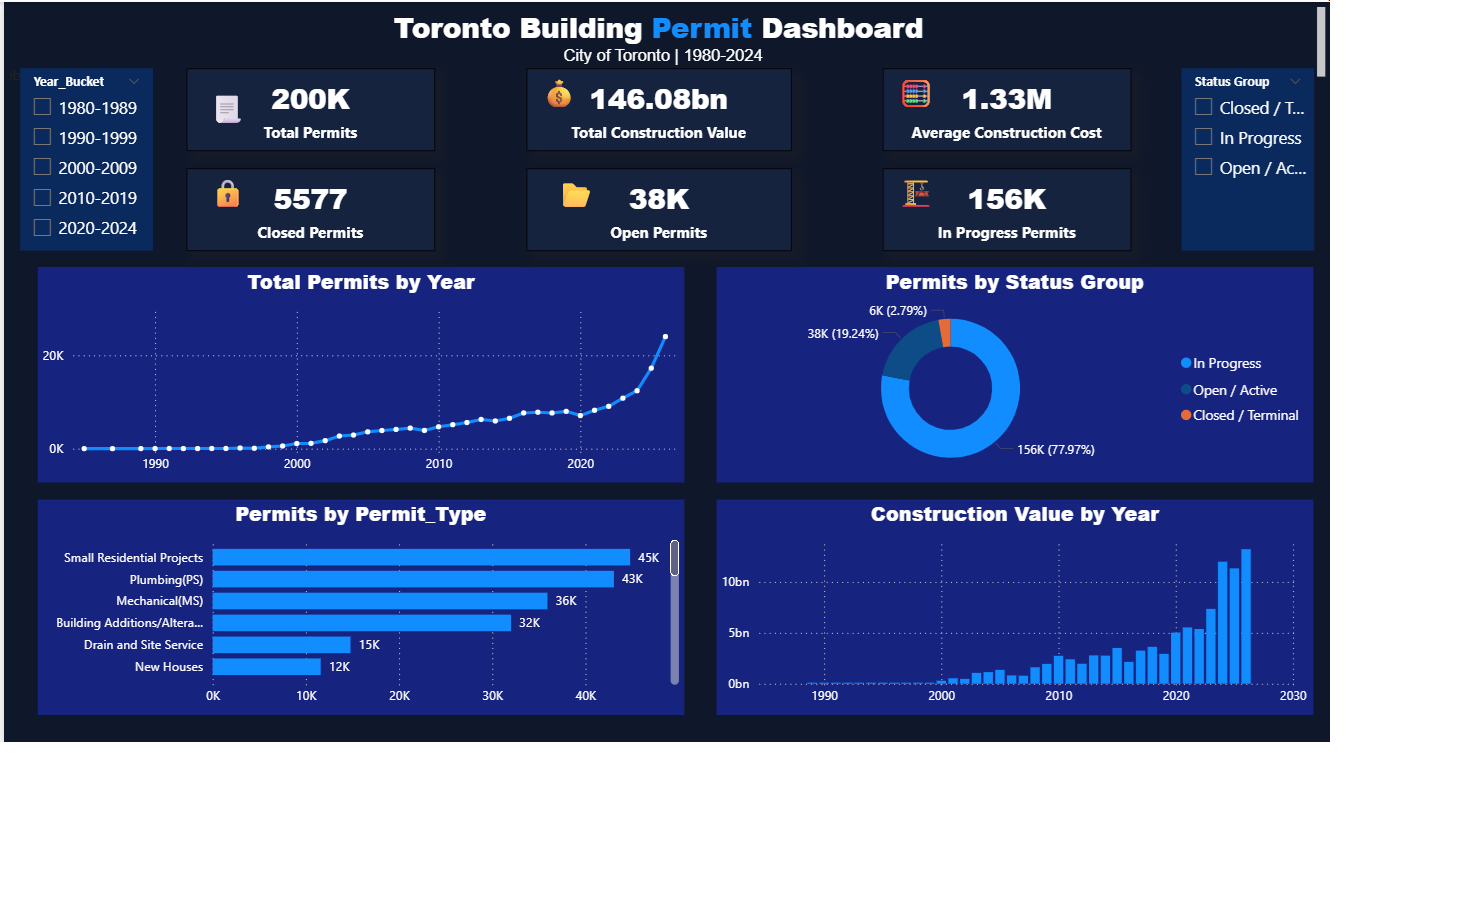

What the dashboard file says about the page in this screenshot:
{"tool":"powerbi","page":{"name":"Page 1","canvas":[1280,720],"ordinal":0},"visuals":[{"type":"card","fields":{"Values":["_.Total Permits"]},"box":[176,64,240,80],"z":0},{"type":"card","fields":{"Values":["_.Closed Permits"]},"box":[176,160,240,80],"z":1000},{"type":"card","fields":{"Values":["_.Average Construction Cost"]},"box":[848,64,240,80],"z":2000},{"type":"card","fields":{"Values":["_.Total Construction Value"]},"box":[504,64,256,80],"z":3000},{"type":"textbox","box":[0,0,1280,80],"z":4000},{"type":"lineChart","fields":{"Category":["building-permits-active-permits.ISSUED_DATE.Variation.Date Hierarchy.Year"],"Y":["_.Total Permits"]},"box":[32,256,624,208],"z":5000},{"type":"card","fields":{"Values":["_.In Progress Permits"]},"box":[848,160,240,80],"z":6000},{"type":"card","fields":{"Values":["_.Open Permits"]},"box":[504,160,256,80],"z":7000},{"type":"donutChart","title":"Permits by Status Group","fields":{"Y":["_.Total Permits"],"Category":["building-permits-active-permits.Status Group"]},"box":[688,256,576,208],"z":8000},{"type":"barChart","title":"Permits by Permit_Type","fields":{"Y":["_.Total Permits"],"Category":["building-permits-active-permits.PERMIT_TYPE"]},"box":[32,480,624,208],"z":9000},{"type":"columnChart","title":"Construction Value by Year","fields":{"Y":["_.Total Construction Value"],"Category":["building-permits-active-permits.ISSUED_DATE.Variation.Date Hierarchy.Year"]},"box":[688,480,576,208],"z":10000},{"type":"slicer","fields":{"Values":["building-permits-active-permits.Year_Bucket"]},"box":[16,64,128,176],"z":11000},{"type":"slicer","fields":{"Values":["building-permits-active-permits.Status Group"]},"box":[1136,64,128,176],"z":12000},{"type":"textbox","box":[192,80,48,48],"z":13000},{"type":"textbox","box":[512,64,48,48],"z":14000},{"type":"textbox","box":[848,64,64,48],"z":15000},{"type":"textbox","box":[192,160,48,64],"z":16000},{"type":"textbox","box":[512,160,80,48],"z":17000},{"type":"textbox","box":[848,160,64,48],"z":18000}]}

Visuals, with their boxes on the page's 1280x720 design canvas (x1, y1, x2, y2). These are canvas units, not pixel positions in the 1481x914 screenshot, which may show the page scaled, cropped or inside an application window:
card - _.Total Permits: bbox=[176, 64, 416, 144]
card - _.Closed Permits: bbox=[176, 160, 416, 240]
card - _.Average Construction Cost: bbox=[848, 64, 1088, 144]
card - _.Total Construction Value: bbox=[504, 64, 760, 144]
textbox: bbox=[0, 0, 1280, 80]
lineChart - building-permits-active-permits.ISSUED_DATE.Variation.Date Hierarchy.Year x _.Total Permits: bbox=[32, 256, 656, 464]
card - _.In Progress Permits: bbox=[848, 160, 1088, 240]
card - _.Open Permits: bbox=[504, 160, 760, 240]
"Permits by Status Group" donutChart: bbox=[688, 256, 1264, 464]
"Permits by Permit_Type" barChart: bbox=[32, 480, 656, 688]
"Construction Value by Year" columnChart: bbox=[688, 480, 1264, 688]
slicer - building-permits-active-permits.Year_Bucket: bbox=[16, 64, 144, 240]
slicer - building-permits-active-permits.Status Group: bbox=[1136, 64, 1264, 240]
textbox: bbox=[192, 80, 240, 128]
textbox: bbox=[512, 64, 560, 112]
textbox: bbox=[848, 64, 912, 112]
textbox: bbox=[192, 160, 240, 224]
textbox: bbox=[512, 160, 592, 208]
textbox: bbox=[848, 160, 912, 208]
